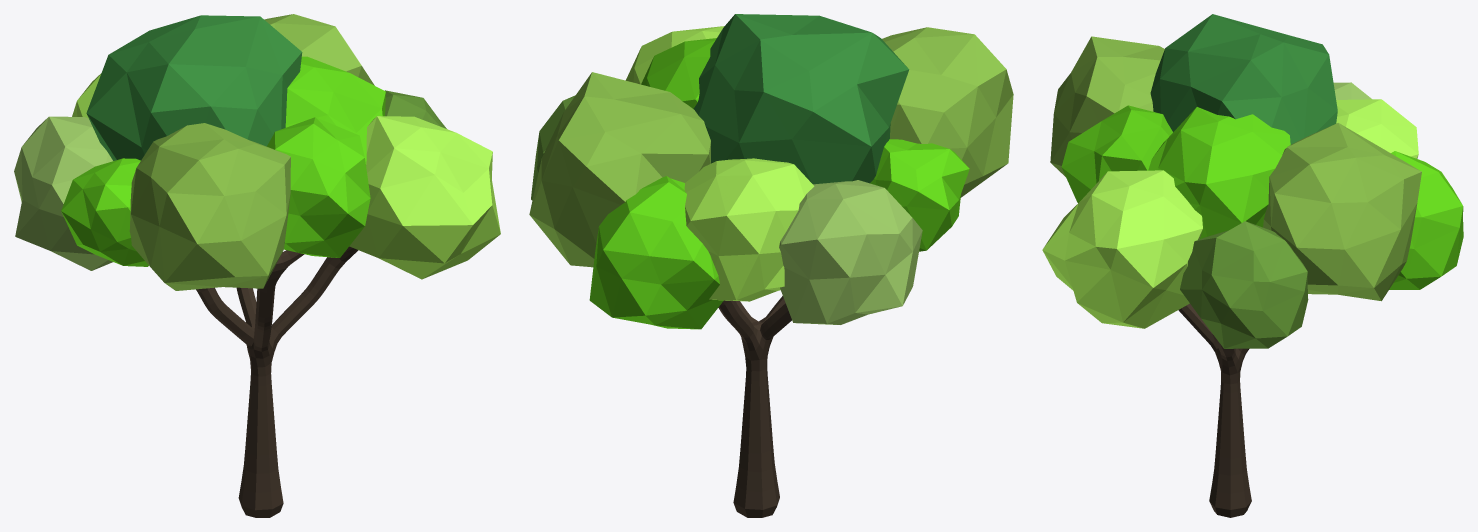
Rendered from tree.fbx.
3 renders of one model, left to right at view 1: azimuth 30°, elevation 25°; view 2: azimuth 150°, elevation 25°; view 3: azimuth 270°, elevation 25°, orthographic. The views are drawn at different scales.
Parts seen in each view (by area): view 1: Plane.006; view 2: Plane.006; view 3: Plane.006.
Boxes of the visible parts, <box> form: Plane.006: <box>14,14,500,517</box>; Plane.006: <box>529,14,1013,517</box>; Plane.006: <box>1042,14,1463,517</box>.
Bounding box in the file's own units: 11.47 × 13.57 × 11.29.
